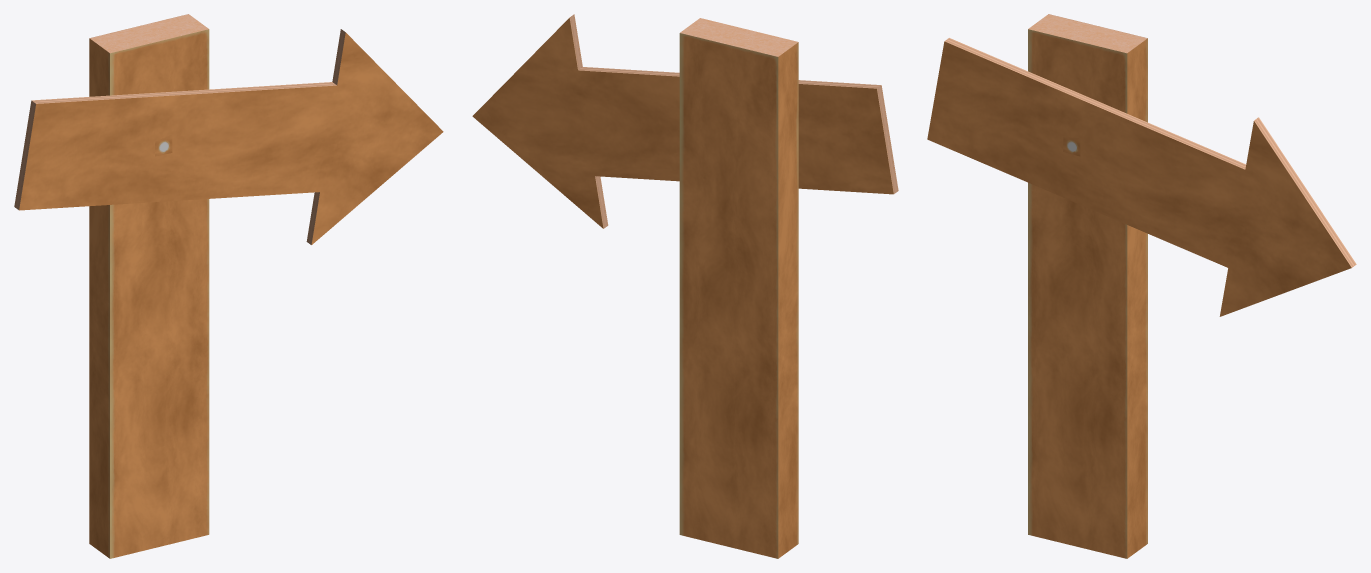
The model's file is Sign_2.fbx.
3 renders of one model, left to right at view 1: azimuth 30°, elevation 25°; view 2: azimuth 150°, elevation 25°; view 3: azimuth 330°, elevation 25°, orthographic.
Visible parts, largest first — view 1: Sign_2; view 2: Sign_2; view 3: Sign_2.
Boxes of the visible parts, x1,y1,x2,y2 form: Sign_2: [14, 14, 443, 558]; Sign_2: [472, 14, 898, 558]; Sign_2: [927, 14, 1356, 558].
Size of the model in its own units: 0.6765 by 0.7699 by 0.0705.
